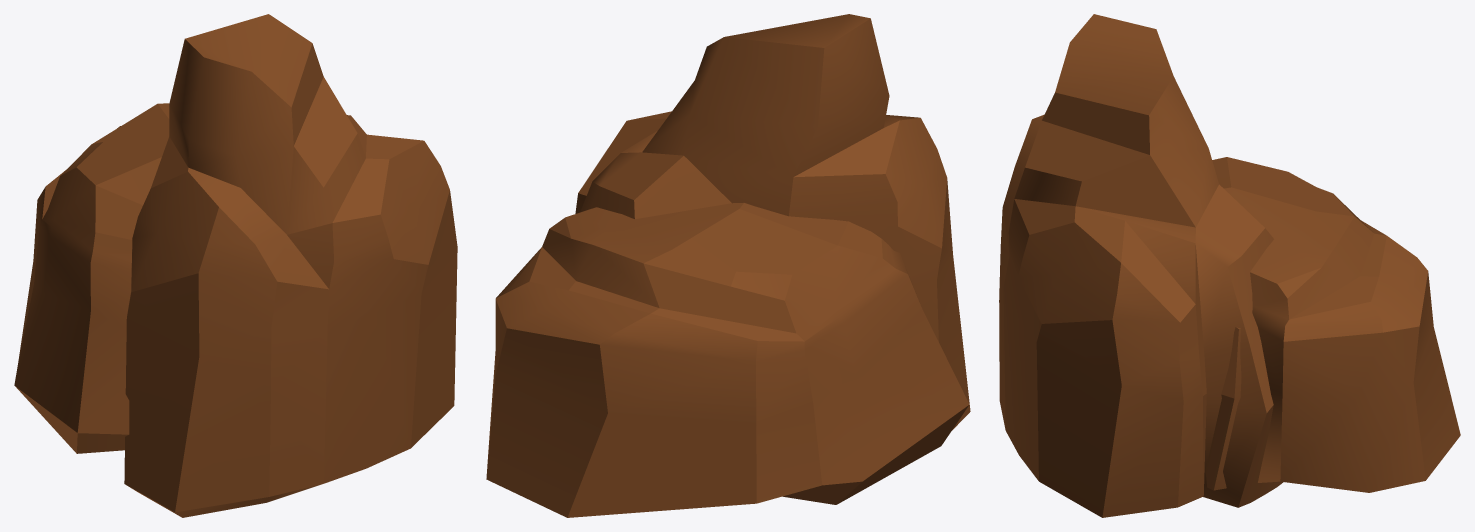
Rendered from rock3_lev2.glb.
3 renders of one model, left to right at view 1: azimuth 30°, elevation 25°; view 2: azimuth 150°, elevation 25°; view 3: azimuth 270°, elevation 25°, orthographic. The views are drawn at different scales.
Visible parts, largest first — view 1: Rock_Large_2.002; view 2: Rock_Large_2.002; view 3: Rock_Large_2.002.
Part boxes in pixels (x1=…): Rock_Large_2.002: x1=14, y1=14, x2=457, y2=517; Rock_Large_2.002: x1=486, y1=14, x2=970, y2=517; Rock_Large_2.002: x1=999, y1=14, x2=1460, y2=517.
Bounding box in the file's own units: 26.42 × 28.27 × 29.53.
1 material, 1 textured.
